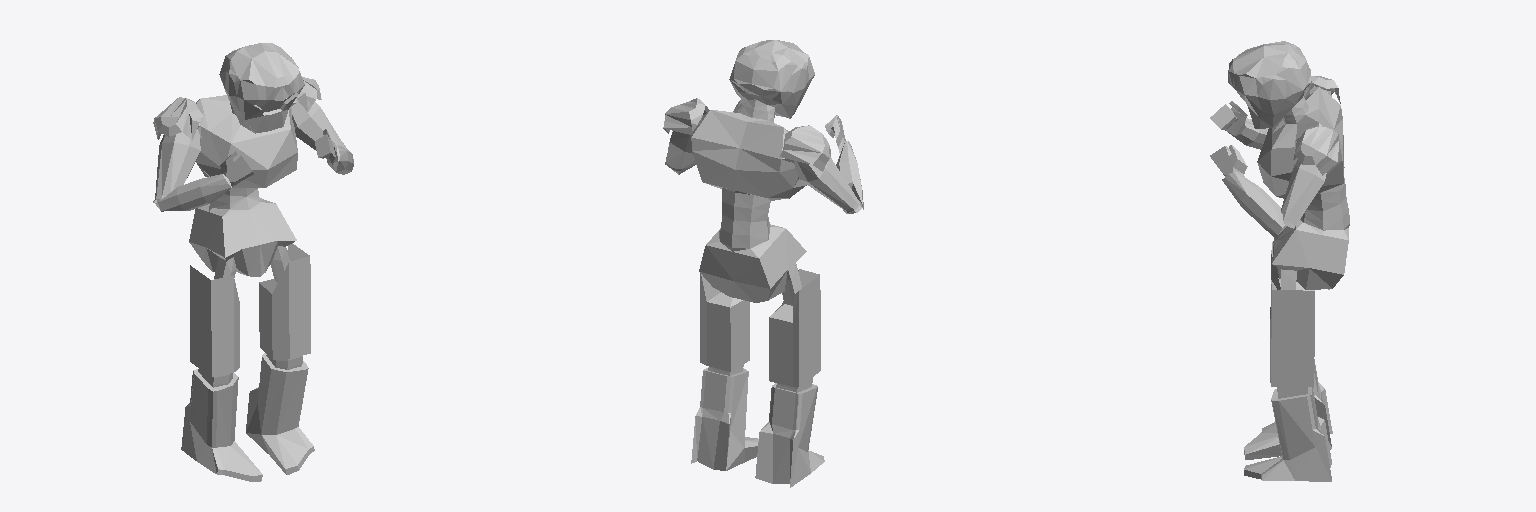
Rendered from Shputnik-Kick0.obj.
3 views of the same model, side by side, from view 1: azimuth 30°, elevation 25°; view 2: azimuth 150°, elevation 25°; view 3: azimuth 270°, elevation 25° (orthographic).
Parts seen in each view (by area): view 1: Shputnik_Mesh; view 2: Shputnik_Mesh; view 3: Shputnik_Mesh.
Boxes of the visible parts, <box> form: Shputnik_Mesh: <box>153,43,353,481</box>; Shputnik_Mesh: <box>663,40,863,487</box>; Shputnik_Mesh: <box>1210,41,1349,481</box>.
Size of the model in its own units: 5.88 by 12.04 by 3.66.